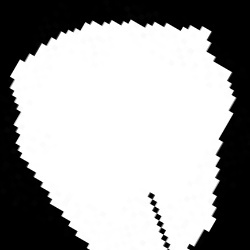spot: (9, 20, 236, 247)
